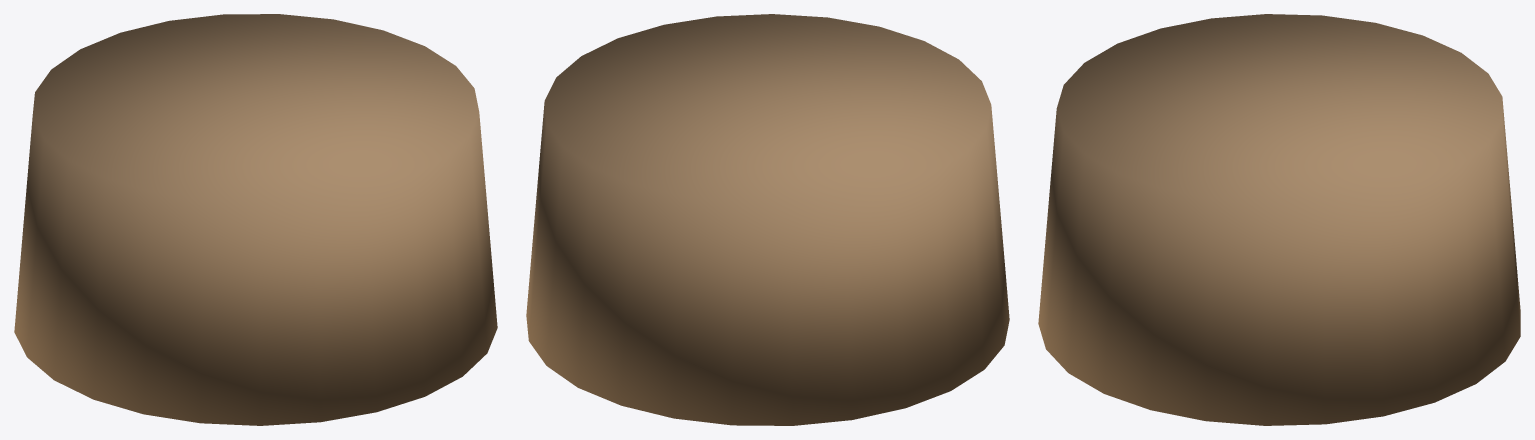
The picture shows the model from 3 angles, left to right: view 1: azimuth 30°, elevation 25°; view 2: azimuth 150°, elevation 25°; view 3: azimuth 270°, elevation 25°; orthographic projection.
Parts seen in each view (by area): view 1: color.014; view 2: color.014; view 3: color.014.
Boxes of the visible parts, x1,y1,x2,y2 form: color.014: (14,14,497,425); color.014: (526,14,1009,425); color.014: (1038,14,1520,425).
Size of the model in its own units: 0.5 by 0.2506 by 0.499.
